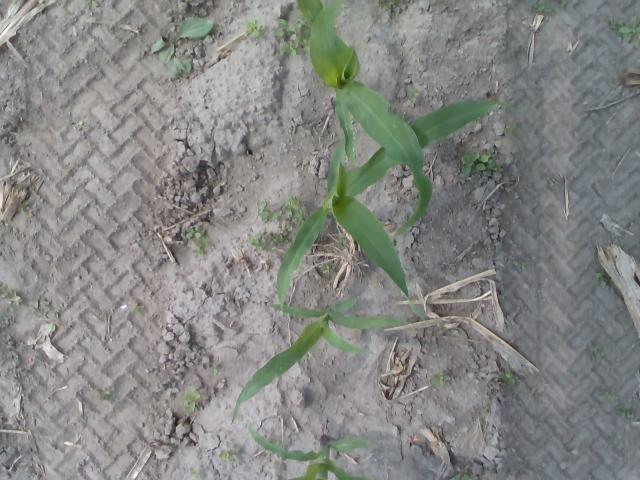Maize: (277, 100, 511, 314), (296, 1, 435, 243), (231, 296, 411, 426), (246, 421, 369, 480)
Weeds: (149, 18, 212, 76), (276, 18, 302, 55), (457, 150, 495, 174), (610, 15, 640, 44), (250, 230, 278, 252), (281, 197, 305, 222), (186, 228, 208, 253), (182, 387, 198, 414), (258, 201, 276, 221), (280, 222, 294, 244), (98, 385, 115, 400), (432, 371, 451, 384), (245, 20, 259, 36), (594, 270, 606, 287), (592, 345, 604, 362), (219, 449, 236, 461), (618, 404, 634, 416), (536, 0, 549, 14), (5, 290, 20, 302), (454, 472, 476, 480), (504, 372, 516, 384), (0, 281, 8, 298), (412, 89, 420, 103), (606, 391, 616, 401), (190, 470, 200, 479), (557, 0, 569, 6), (322, 265, 330, 273), (212, 369, 220, 376)
